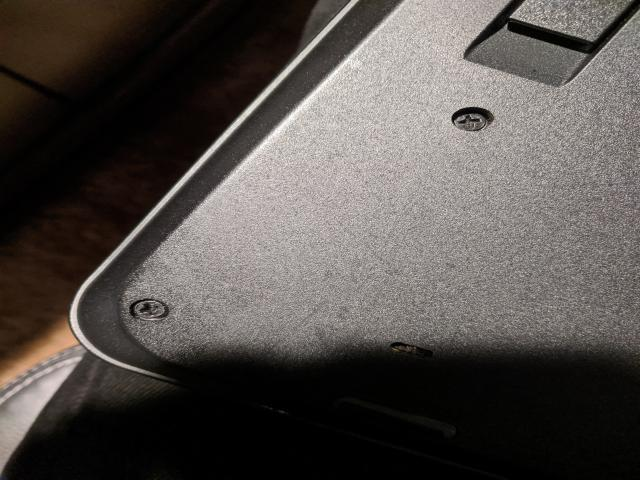CRS: (452, 107, 489, 134), (132, 300, 170, 321)
